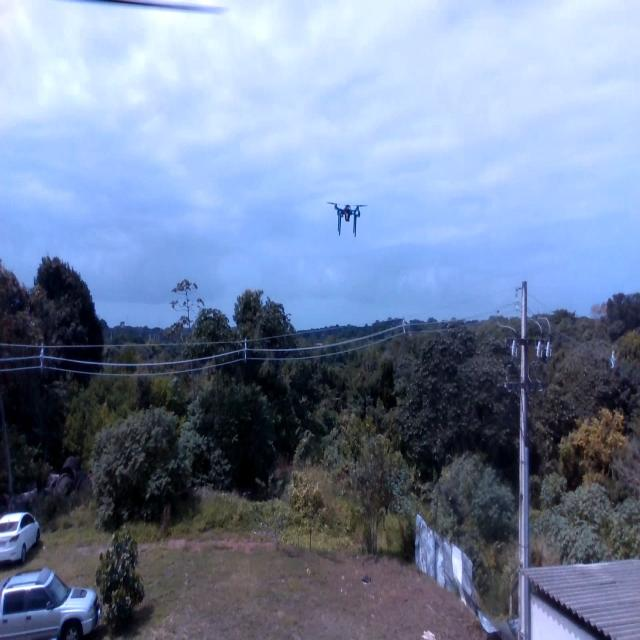-uav-: (318, 191, 379, 248)
